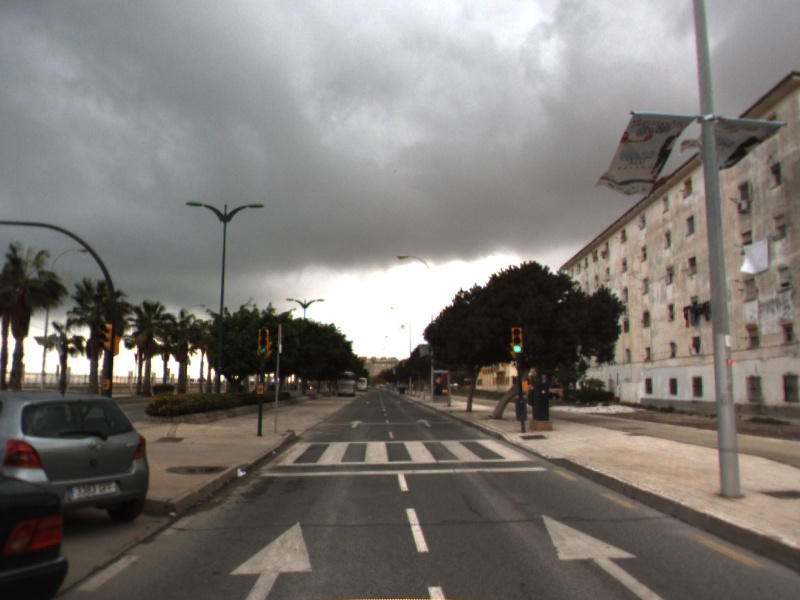STRAIGHT: (541, 511, 664, 600), (226, 518, 316, 600), (414, 417, 435, 429), (346, 418, 366, 430)
